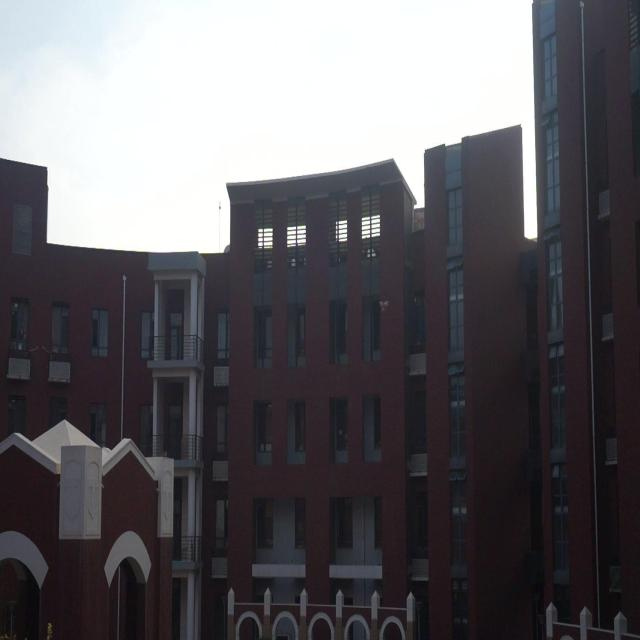drone: (377, 292, 392, 317)
